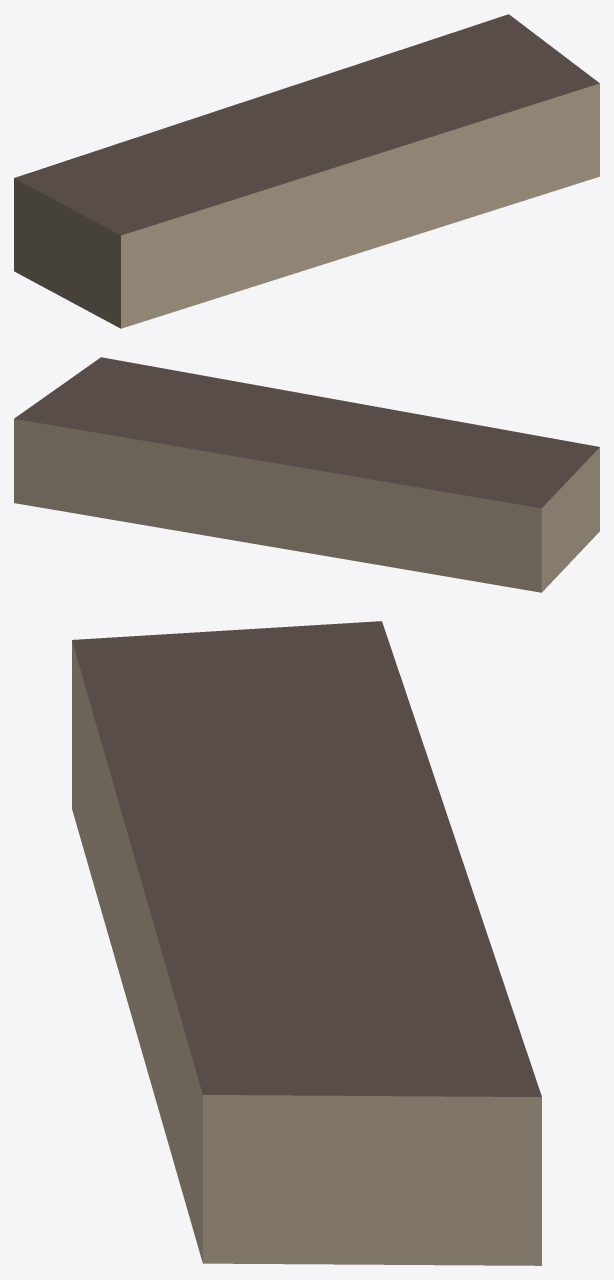
The picture shows the model from 3 angles, top to bottom: view 1: azimuth 30°, elevation 25°; view 2: azimuth 150°, elevation 25°; view 3: azimuth 270°, elevation 25°; orthographic projection. The views are drawn at different scales.
Parts seen in each view (by area): view 1: HP-w859078979; view 2: HP-w859078979; view 3: HP-w859078979.
Boxes of the visible parts, x1,y1,x2,y2 form: HP-w859078979: (14, 14, 599, 328); HP-w859078979: (14, 357, 599, 592); HP-w859078979: (72, 621, 541, 1265).
Size of the model in its own units: 54.46 by 9 by 22.73.
